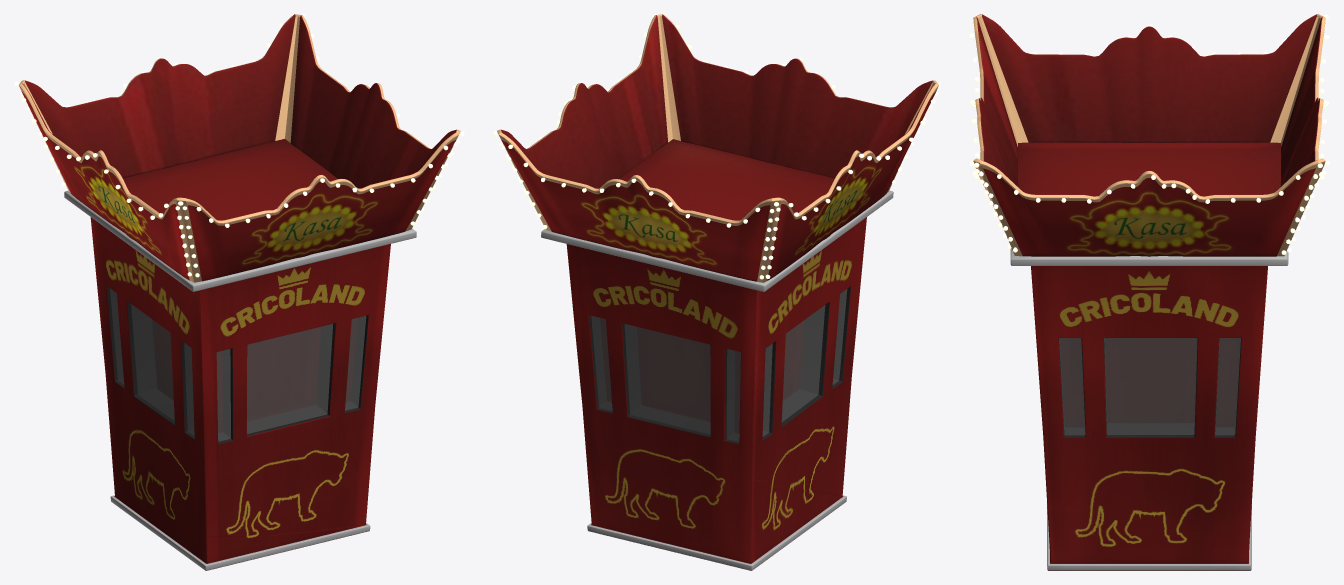
File: budka_wesole_miasteczko.fbx
3 views of the same model, side by side, from view 1: azimuth 30°, elevation 25°; view 2: azimuth 150°, elevation 25°; view 3: azimuth 270°, elevation 25° (orthographic). The views are drawn at different scales.
Parts seen in each view (by area): view 1: Cube.002, Plane.002, Cube.003, Sphere; view 2: Cube.002, Plane.002, Cube.003, Sphere; view 3: Cube.002, Plane.002, Cube.003, Sphere.
Part boxes in pixels (<box>): Cube.002: <box>64,139,416,570</box>; Plane.002: <box>19,14,460,282</box>; Cube.003: <box>110,289,366,441</box>; Sphere: <box>14,14,464,227</box>; Cube.002: <box>541,139,893,570</box>; Plane.002: <box>497,14,938,282</box>; Cube.003: <box>591,289,847,441</box>; Sphere: <box>493,14,940,227</box>; Cube.002: <box>1010,142,1288,570</box>; Plane.002: <box>973,14,1325,256</box>; Cube.003: <box>1059,338,1240,435</box>; Sphere: <box>969,14,1329,203</box>.
Bounding box in the file's own units: 367 × 494 × 367.
